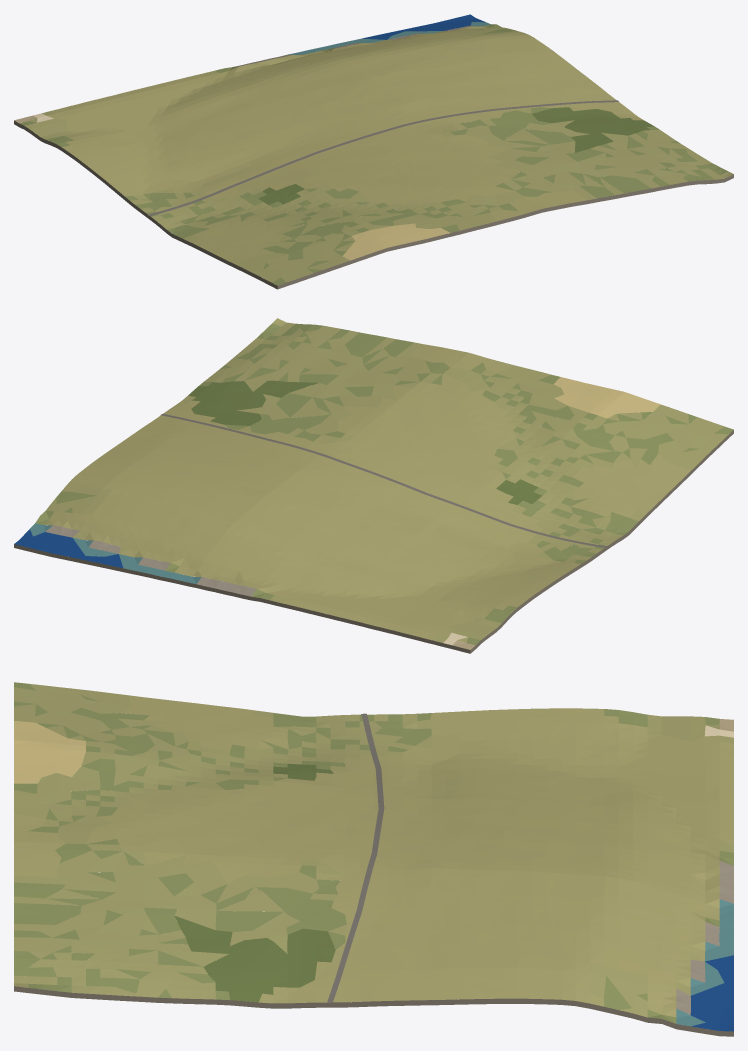
The model's file is parca_+3_+2-uzak.glb.
3 renders of one model, top to bottom at view 1: azimuth 30°, elevation 25°; view 2: azimuth 150°, elevation 25°; view 3: azimuth 270°, elevation 25°, orthographic. The views are drawn at different scales.
Parts seen in each view (by area): view 1: parca_+3_+2_arazi_uzak, parca_+3_+2_yollar_uzak; view 2: parca_+3_+2_arazi_uzak, parca_+3_+2_yollar_uzak; view 3: parca_+3_+2_arazi_uzak, parca_+3_+2_yollar_uzak.
Part boxes in pixels (x1,y1,x2,y2): parca_+3_+2_arazi_uzak: (14, 14, 733, 289); parca_+3_+2_yollar_uzak: (148, 100, 618, 216); parca_+3_+2_arazi_uzak: (14, 318, 733, 653); parca_+3_+2_yollar_uzak: (160, 414, 606, 547); parca_+3_+2_arazi_uzak: (14, 682, 733, 1036); parca_+3_+2_yollar_uzak: (327, 713, 384, 1002).
Bounding box in the file's own units: 1004 × 103 × 1000.
